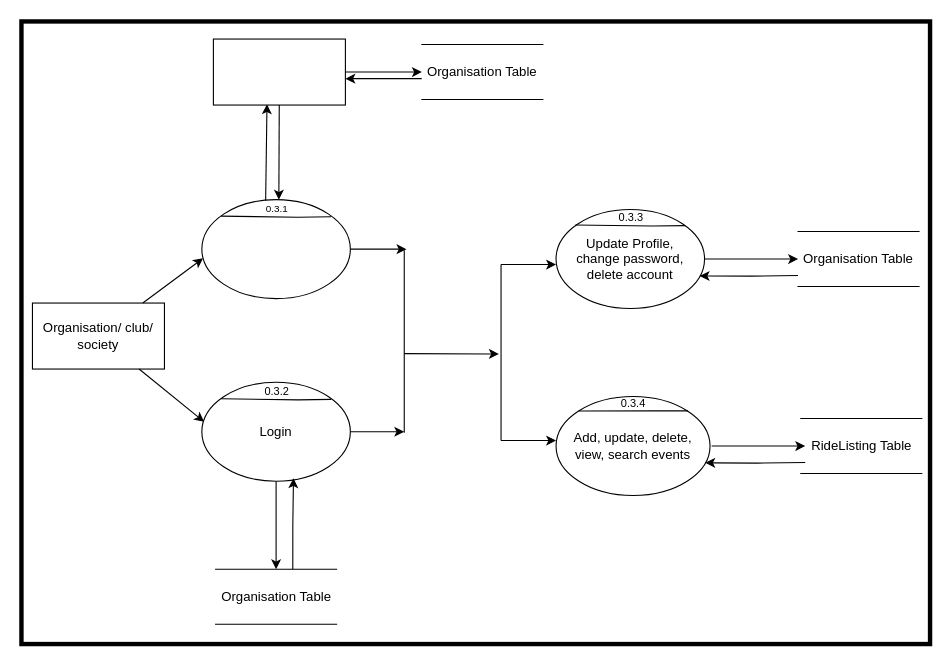
Some shapes in this 950 by 664 pixel diagram are drawn without their labels. Each missing label, with the box of its shape:
Admin: (212, 38, 345, 105)
Register: (201, 199, 350, 299)
